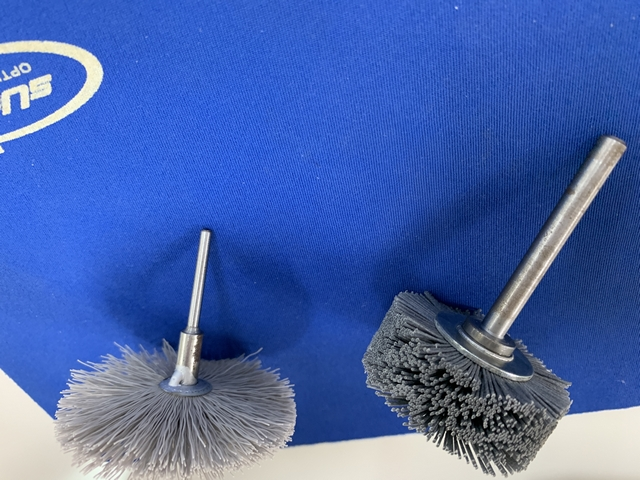TOOL: (38, 231, 305, 477)
Wheel Brush: (357, 132, 621, 477)
